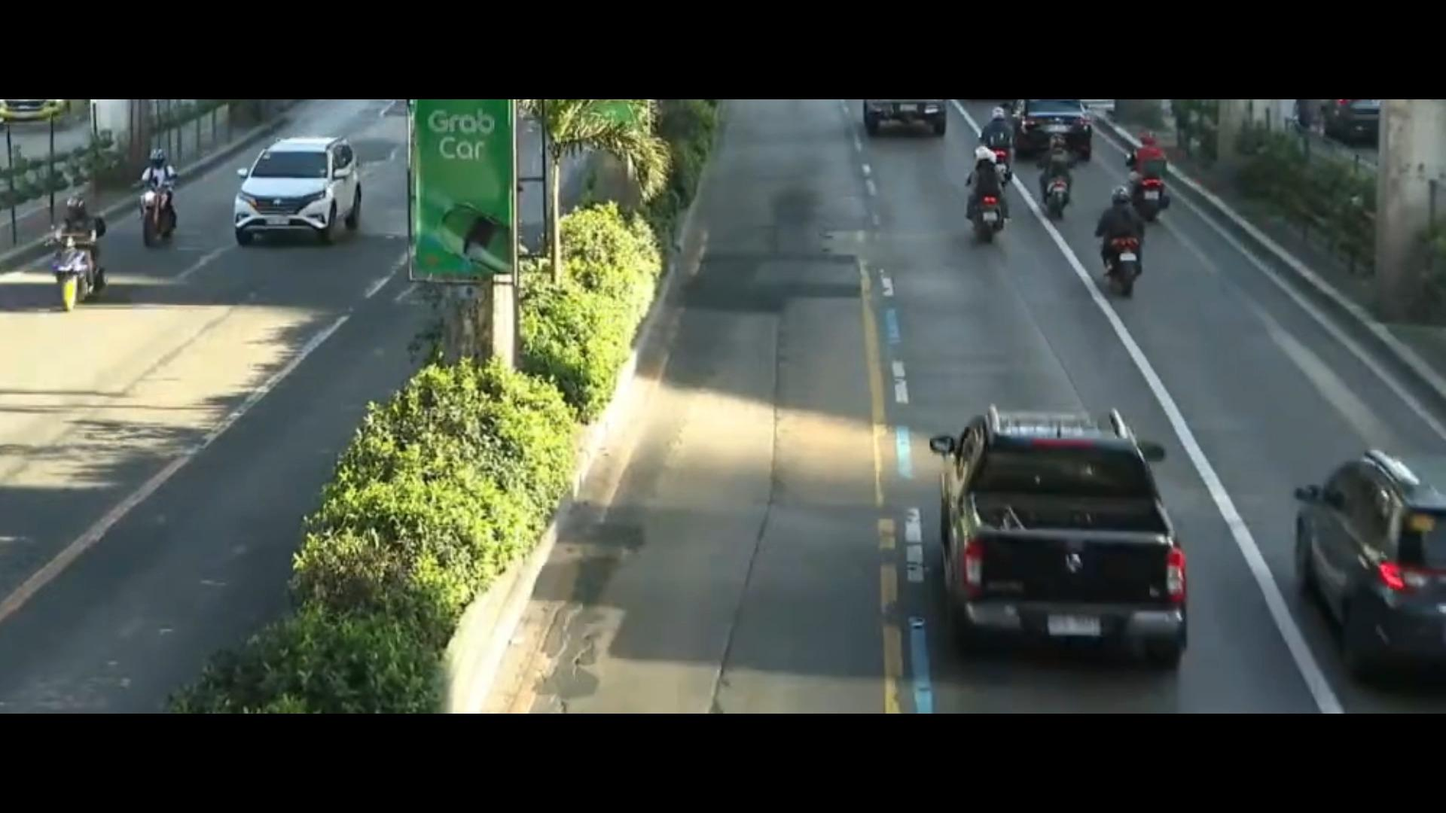Motorcycle: (37, 181, 121, 332), (115, 121, 201, 262), (1064, 181, 1158, 310), (939, 141, 1022, 268), (1124, 123, 1195, 220), (1023, 133, 1082, 240)
Pickup: (884, 384, 1240, 687)
SUV: (1278, 427, 1446, 679), (218, 123, 390, 272)
